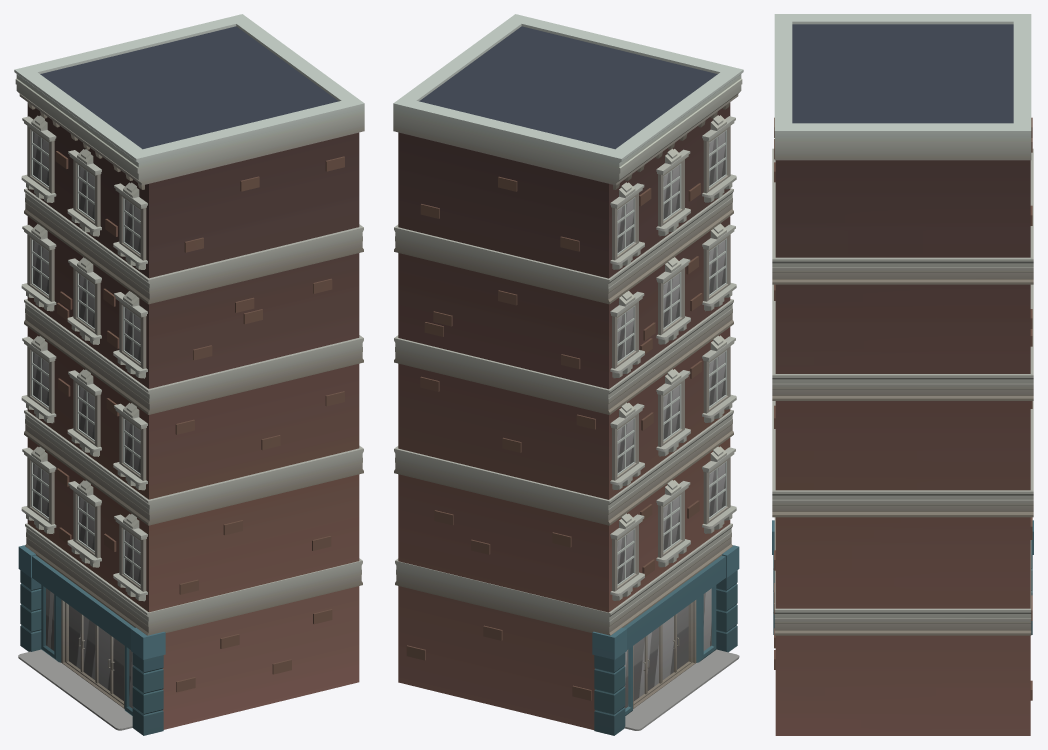
The model's file is Building_21_1_H.fbx.
3 views of the same model, side by side, from view 1: azimuth 30°, elevation 25°; view 2: azimuth 150°, elevation 25°; view 3: azimuth 270°, elevation 25° (orthographic). The views are drawn at different scales.
Parts seen in each view (by area): view 1: Building_21_1_H; view 2: Building_21_1_H; view 3: Building_21_1_H.
Boxes of the visible parts, <box> form: Building_21_1_H: <box>14,14,364,735</box>; Building_21_1_H: <box>393,14,743,735</box>; Building_21_1_H: <box>772,14,1033,735</box>.
Bounding box in the file's own units: 779 × 1825 × 713.
